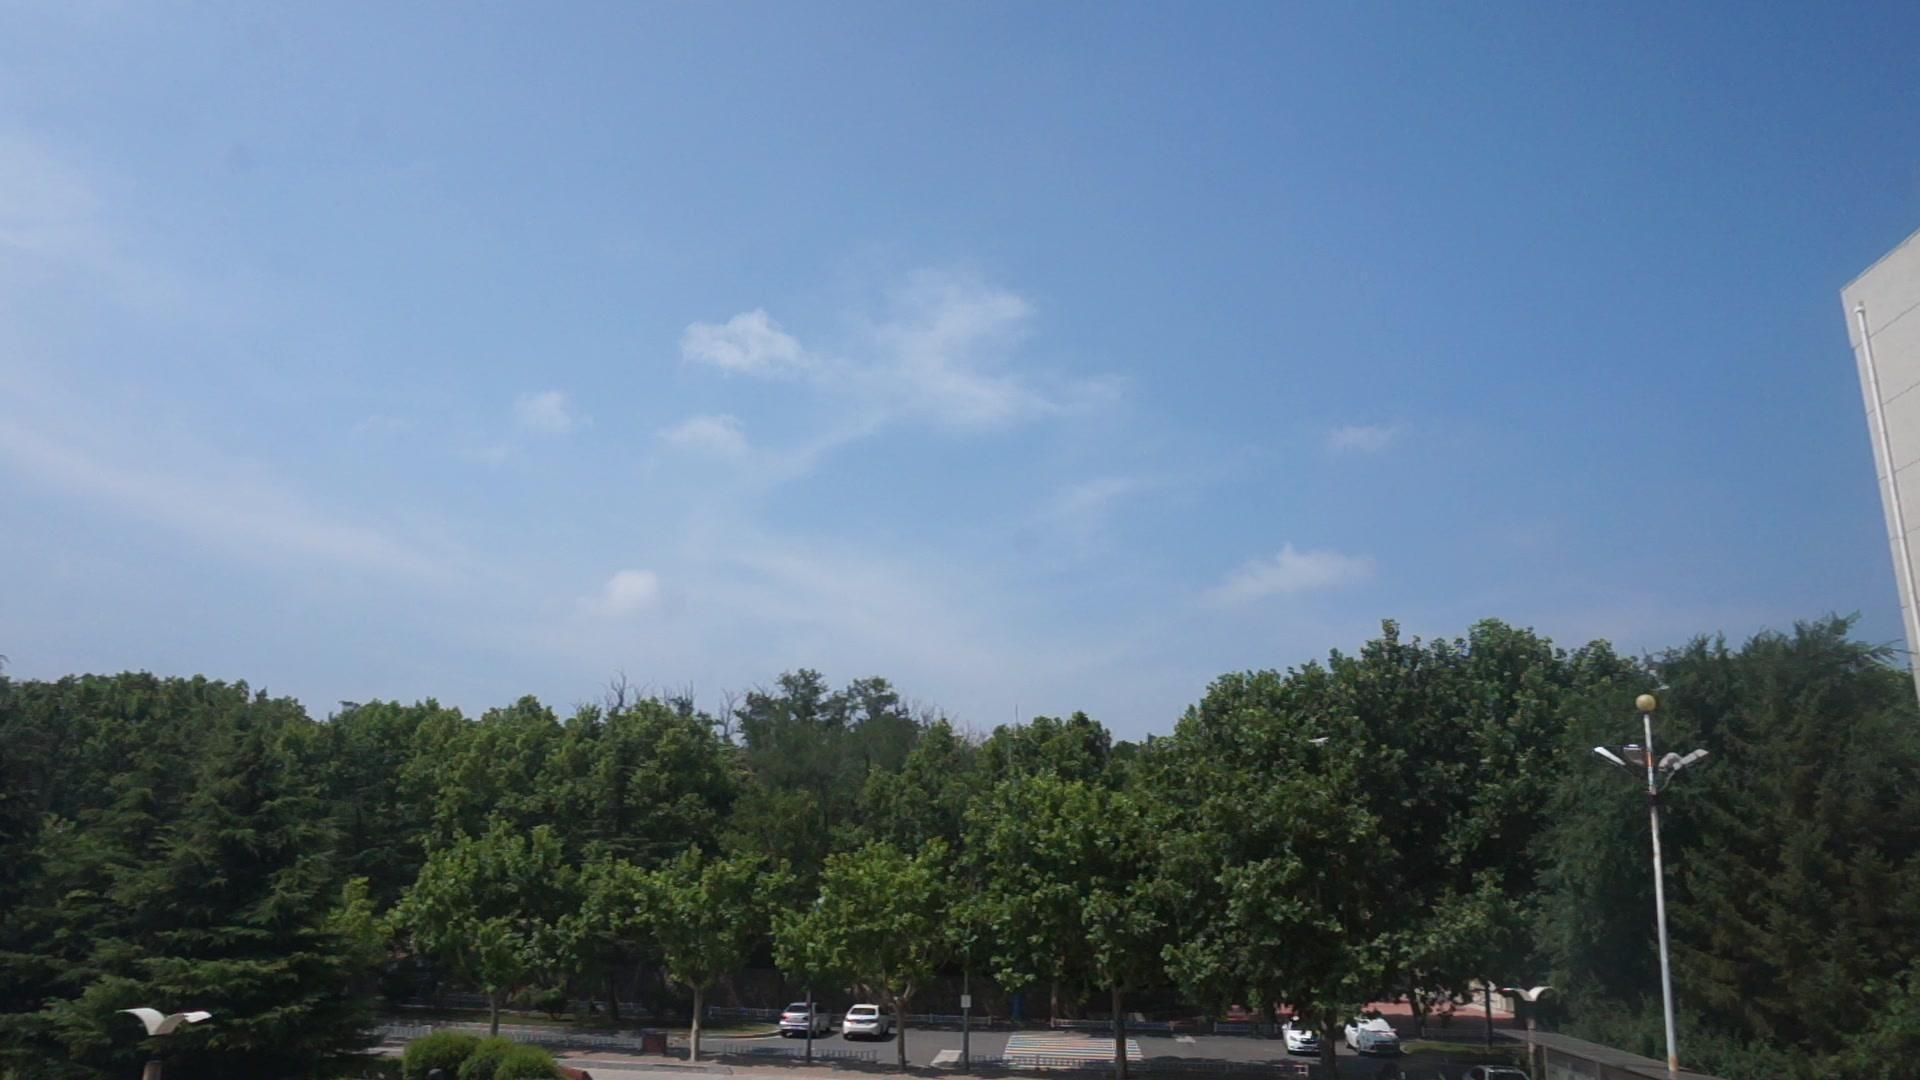UAV: (1309, 738, 1331, 748)
